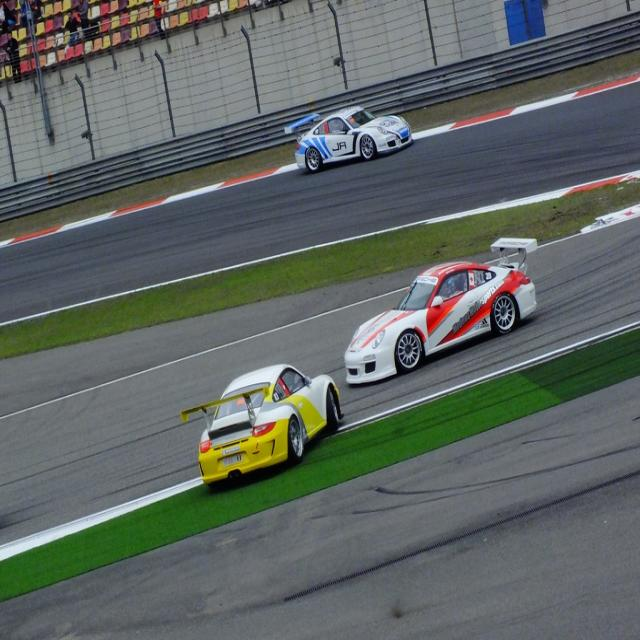car: (344, 230, 540, 384), (186, 356, 344, 474), (281, 111, 413, 172)
